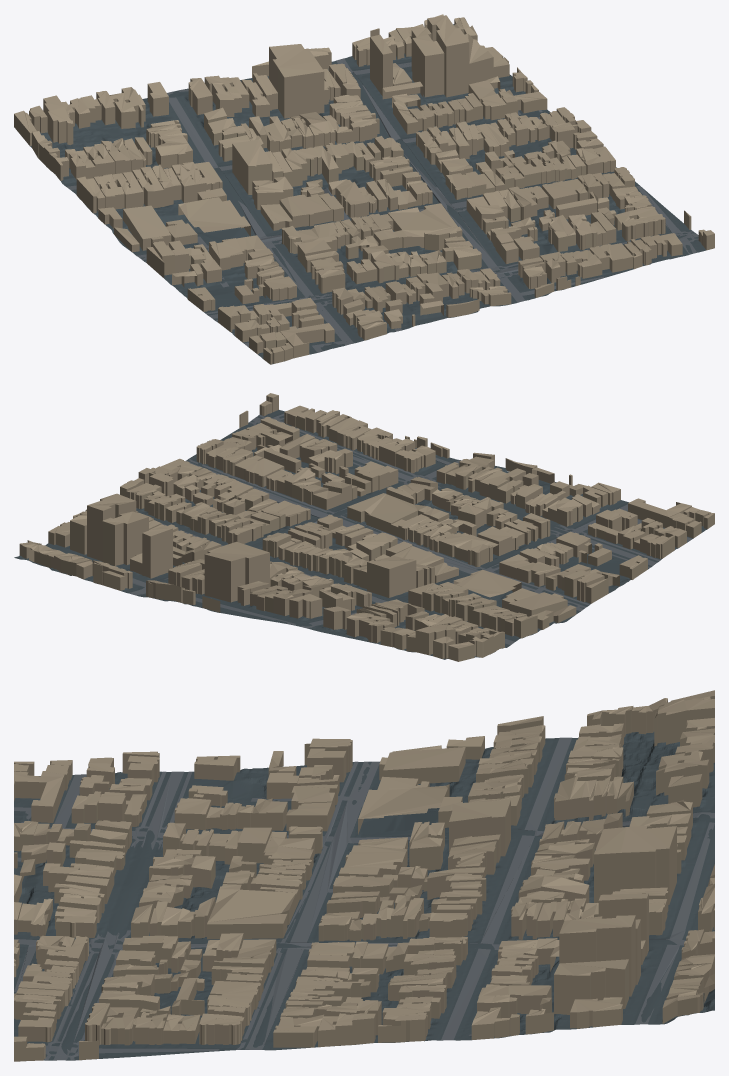
Rendered from epsg26910-1432-10894.lod0.glb.
3 renders of one model, top to bottom at view 1: azimuth 30°, elevation 25°; view 2: azimuth 150°, elevation 25°; view 3: azimuth 270°, elevation 25°, orthographic. The views are drawn at different scales.
Visible parts, largest first — view 1: epsg26910-1432-10894-lod0; view 2: epsg26910-1432-10894-lod0; view 3: epsg26910-1432-10894-lod0.
Boxes of the visible parts, x1=… form: epsg26910-1432-10894-lod0: x1=14, y1=14, x2=714, y2=364; epsg26910-1432-10894-lod0: x1=14, y1=393, x2=714, y2=661; epsg26910-1432-10894-lod0: x1=14, y1=690, x2=714, y2=1061.
Bounding box in the file's own units: 384 × 71.19 × 384.
